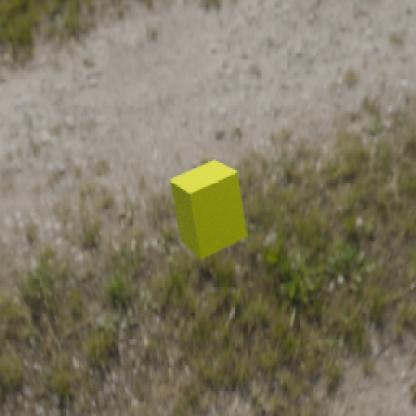yellow_cube: (169, 159, 247, 260)
